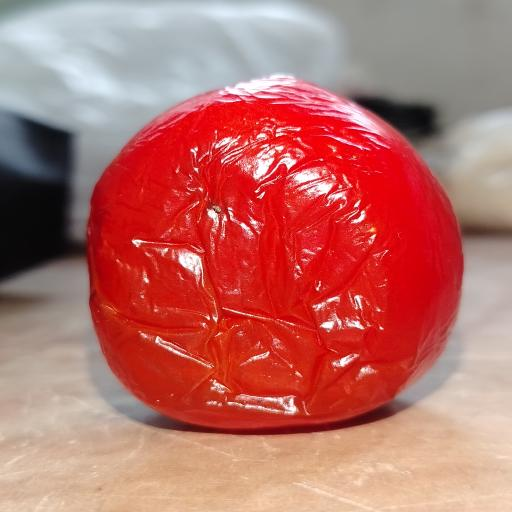spoiled: (88, 77, 461, 429)
